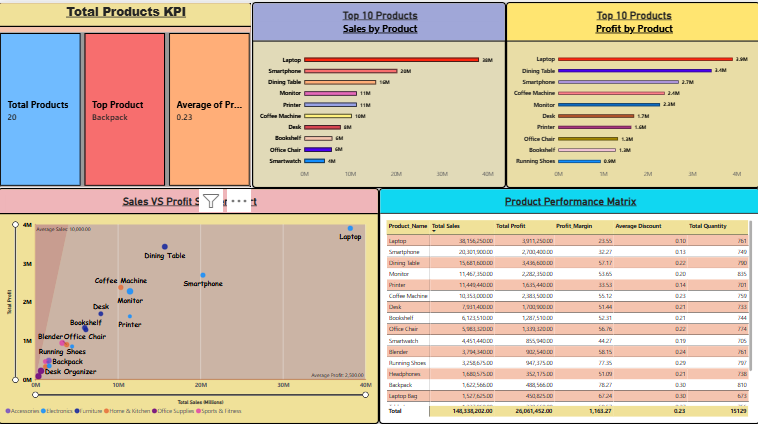

The dashboard page shown, as its layout file describes it:
{"tool":"powerbi","page":{"name":"02.Product  Analysis","canvas":[1920,1080],"ordinal":1},"visuals":[{"type":"barChart","title":"Top 10 Products ","fields":{"Category":["Products.Product_Name"],"Y":["Measure.Total Sales"]},"box":[640,0,640,468.7],"z":0},{"type":"barChart","title":"Top 10 Products","fields":{"Category":["Products.Product_Name"],"Y":["Measure.Total Profit"]},"box":[1280,0,640,468.7],"z":1000},{"type":"scatterChart","title":"Sales VS Profit Scatter Chart","fields":{"Category":["Products.Product_Name"],"Series":["Products.Category"],"Size":["Measure.Total Quantity"],"X":["Measure.Total Sales"],"Y":["Measure.Total Profit"]},"box":[0,468.7,960,594.6],"z":2000},{"type":"cardVisual","title":"Total Products KPI","fields":{"Data":["Measure.Total Products","Min(Products.Product_Name)","Avg(Sales.Profit_Margin)"]},"box":[0,0,640,468.7],"z":3000},{"type":"pivotTable","title":"Product Performance Matrix","fields":{"Rows":["Products.Product_Name"],"Values":["Measure.Total Sales","Measure.Total Profit","Sum(Sales.Profit_Margin)","Measure.Average Discount","Measure.Total Quantity"]},"box":[960,468.7,960,594.6],"z":4000}]}

Visuals, with their boxes in screenshot pixels (x1, y1, x2, y2), scaled from the page's 1920x1080 canvas onto the 758x424 screenshot:
"Top 10 Products " barChart: (x1=253, y1=0, x2=505, y2=184)
"Top 10 Products" barChart: (x1=505, y1=0, x2=757, y2=184)
"Sales VS Profit Scatter Chart" scatterChart: (x1=0, y1=184, x2=379, y2=417)
"Total Products KPI" cardVisual: (x1=0, y1=0, x2=253, y2=184)
"Product Performance Matrix" pivotTable: (x1=379, y1=184, x2=757, y2=417)
